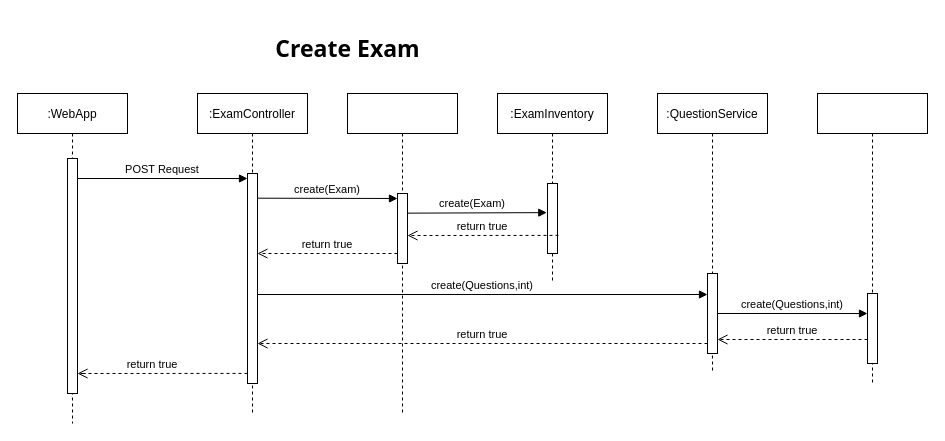
Image size: 945x441. Some labels were removed from this diagram. Each missing label, with the box of its shape:
:ExamService: (346, 92, 458, 414)
:QuestionInventory: (816, 92, 928, 384)
